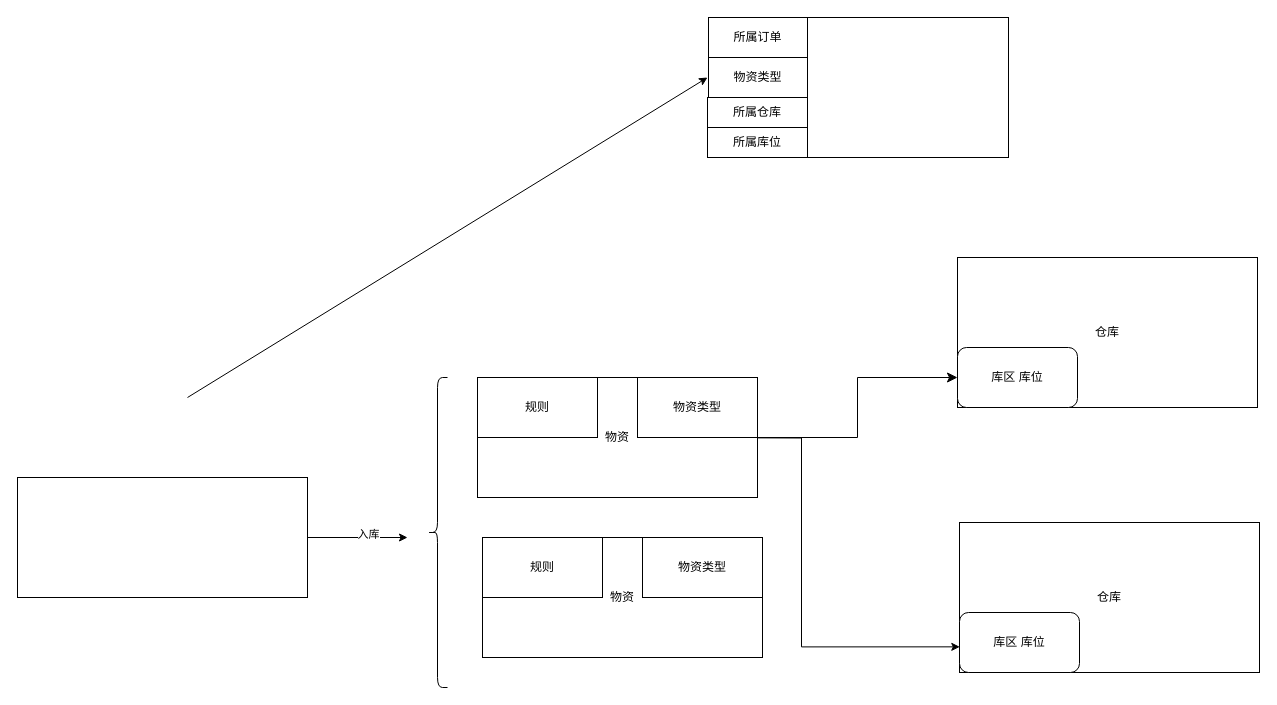
The diagram is 1277 pixels wide and 705 high, and some of its shapes have lost their labels. The box of each missing label's shape, as (x1, y1, x2, y2) in pixels:
入库订单: (16, 476, 308, 598)
库存: (708, 16, 1008, 158)
